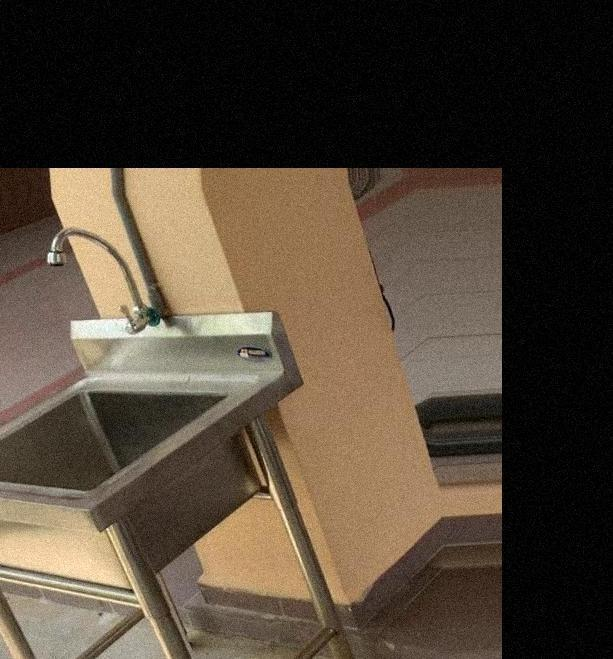Lavaplatos: (0, 222, 311, 613)
